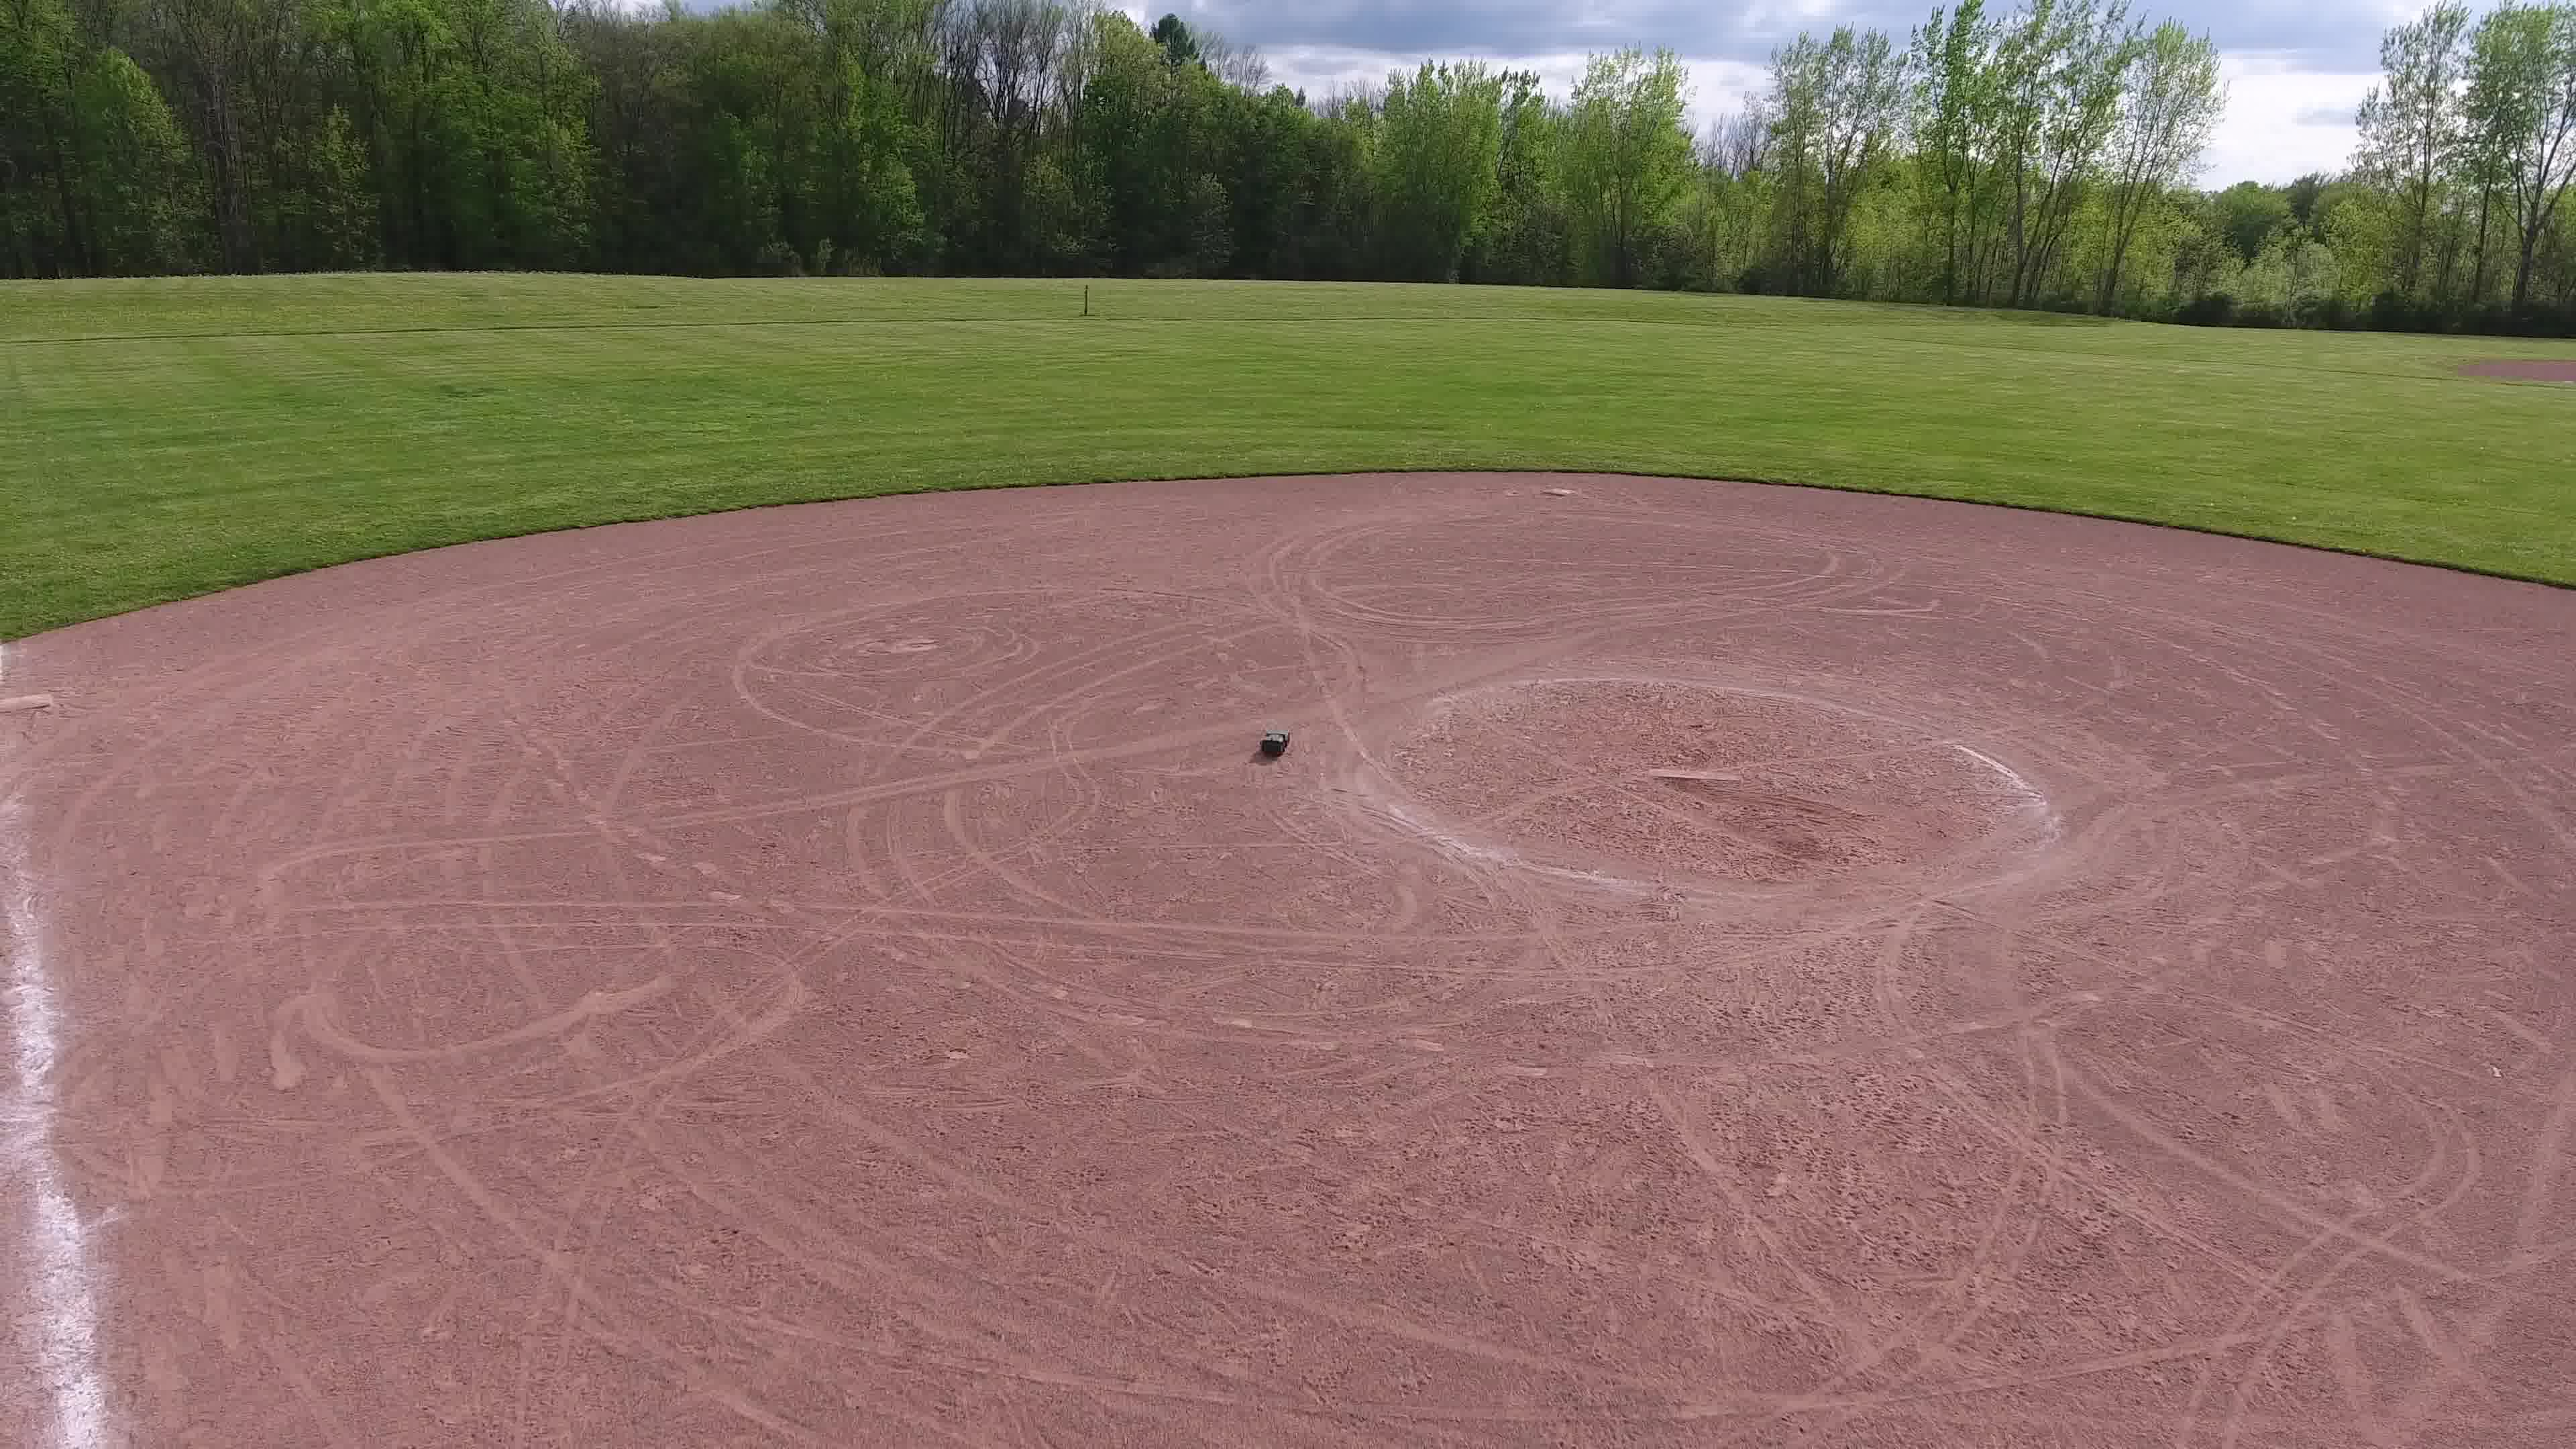transporter9: (1258, 727, 1293, 757)
